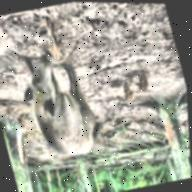boar: (6, 47, 122, 176), (36, 14, 74, 72), (131, 66, 154, 97), (114, 74, 139, 102)
